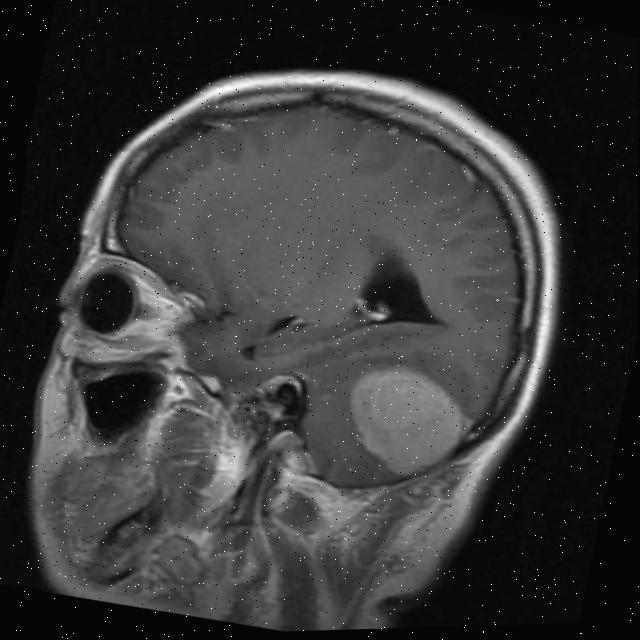Meningioma: (334, 355, 483, 491)
